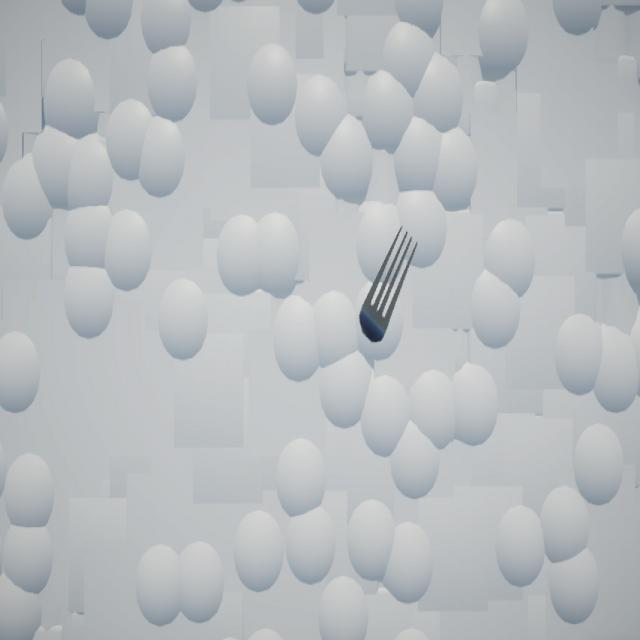top_folk: (360, 227, 419, 344)
